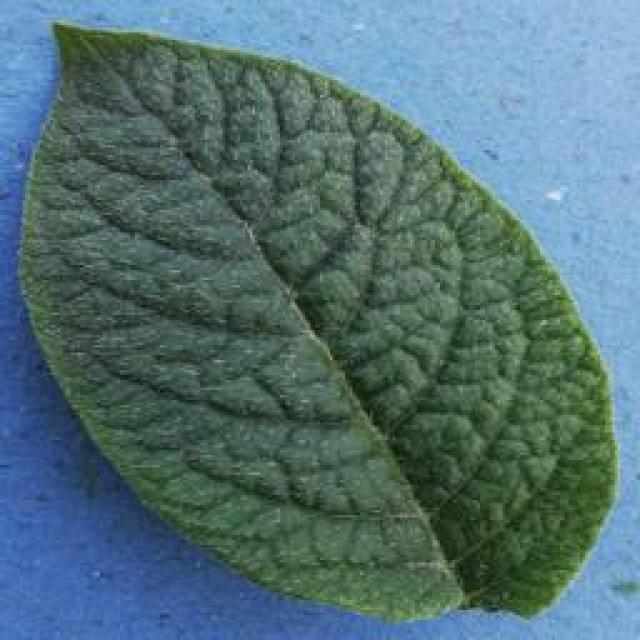Potato_Healthy: (24, 22, 611, 620)
